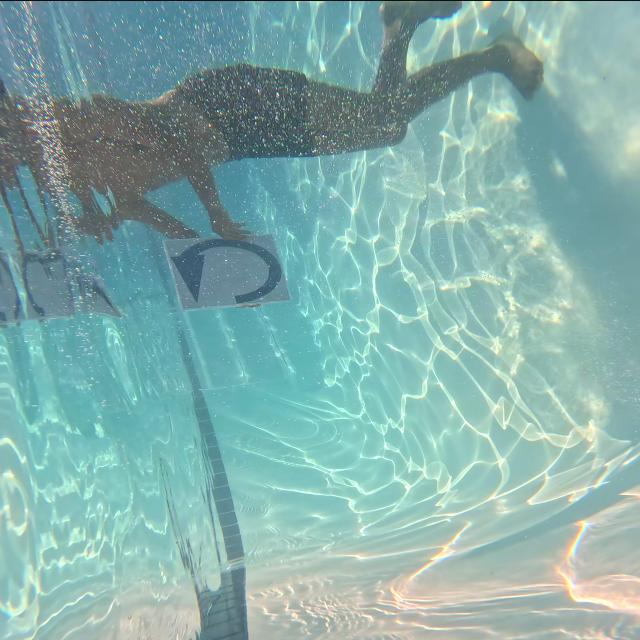blue_side: (171, 233, 287, 304)
